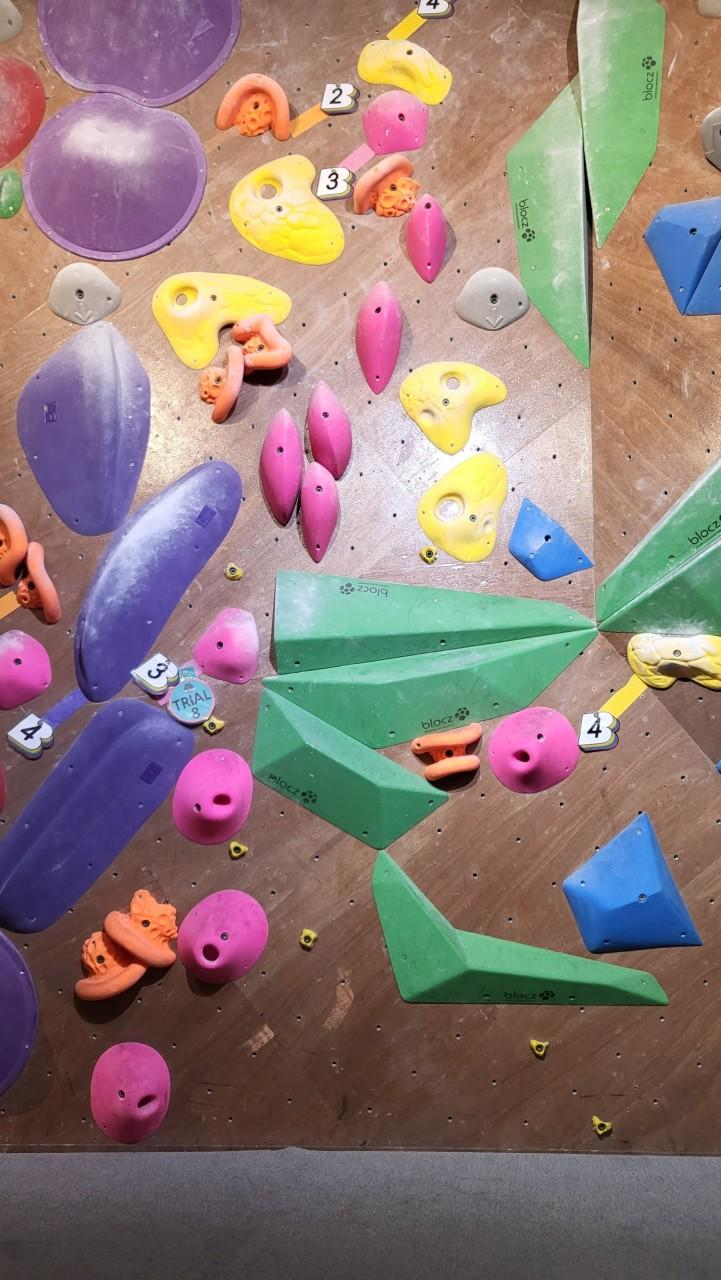hold: (372, 850, 668, 1005), (0, 699, 193, 932), (74, 461, 241, 702), (265, 632, 585, 748), (273, 571, 590, 674), (252, 688, 444, 849), (24, 94, 206, 261), (17, 322, 150, 535), (507, 77, 589, 367), (595, 457, 720, 634), (577, 0, 665, 247), (38, 0, 239, 107), (563, 811, 699, 956), (153, 274, 291, 370), (231, 155, 342, 264), (400, 362, 506, 454), (639, 198, 720, 317), (418, 454, 507, 562), (177, 890, 268, 986), (488, 707, 579, 793), (91, 1043, 170, 1142), (172, 749, 252, 844), (508, 496, 591, 583), (0, 931, 37, 1095), (358, 39, 450, 104), (105, 889, 177, 967), (628, 633, 720, 690), (356, 282, 402, 393), (216, 72, 291, 140), (75, 930, 147, 1000), (0, 56, 45, 168), (260, 409, 303, 525), (193, 610, 259, 682), (455, 267, 530, 330), (48, 262, 120, 326), (307, 381, 351, 479), (411, 723, 481, 783), (363, 91, 428, 155), (0, 630, 51, 709), (355, 156, 419, 217), (406, 194, 449, 282), (301, 461, 338, 562), (198, 343, 243, 426), (17, 542, 60, 623), (236, 318, 294, 372), (0, 504, 27, 586), (700, 107, 720, 170), (0, 169, 23, 219), (203, 715, 224, 735), (594, 1115, 611, 1139), (530, 1039, 548, 1059), (300, 928, 316, 950), (229, 839, 245, 859), (420, 545, 436, 564), (225, 563, 241, 580)
